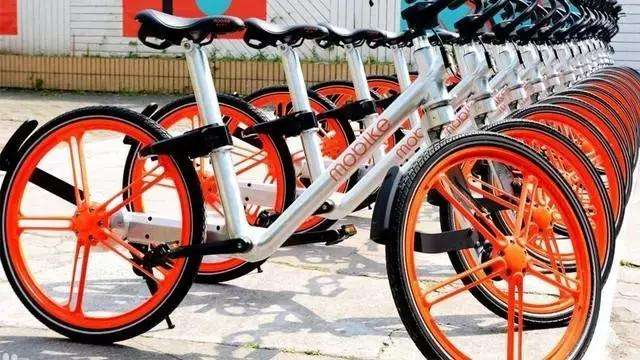MNV: (3, 10, 601, 360)
